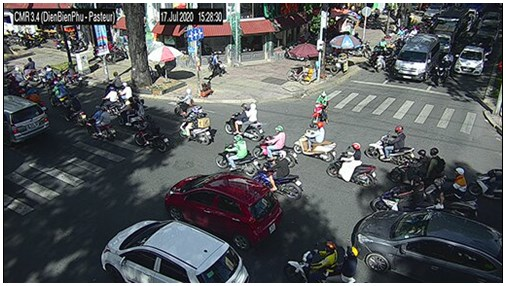xe_hoi: (99, 216, 249, 283), (162, 172, 282, 249), (4, 95, 49, 142), (455, 45, 485, 75)
xe_khach: (394, 34, 440, 82)
xe_may: (284, 239, 358, 283), (424, 167, 478, 218), (252, 150, 303, 200), (326, 142, 376, 189), (389, 148, 444, 186), (366, 124, 415, 165), (214, 133, 258, 177), (254, 125, 298, 169), (292, 120, 337, 163), (224, 101, 264, 142), (134, 115, 170, 153), (371, 187, 421, 214), (179, 107, 212, 145), (87, 104, 118, 141), (467, 168, 502, 199), (120, 96, 146, 128), (174, 88, 201, 118), (64, 92, 88, 125), (310, 90, 329, 128), (101, 86, 121, 115), (50, 80, 69, 110), (118, 82, 135, 107), (372, 48, 387, 73), (64, 62, 81, 84), (435, 58, 446, 89), (107, 72, 122, 92), (444, 51, 455, 78)
